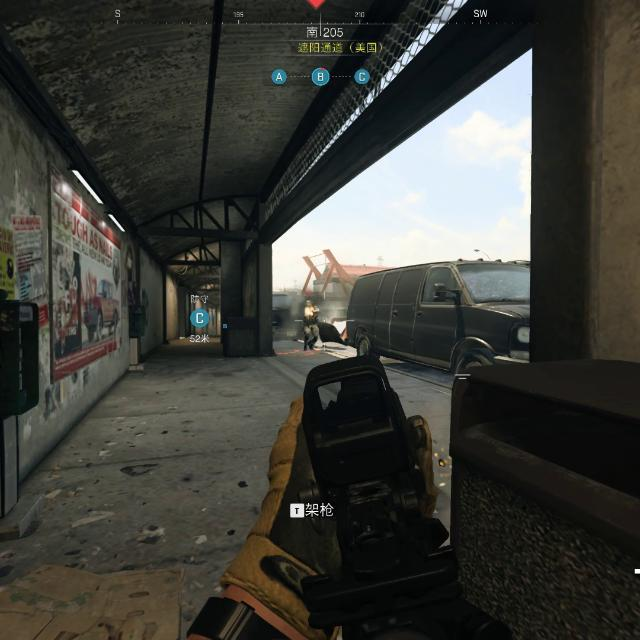MW2_body: (303, 287, 321, 350)
